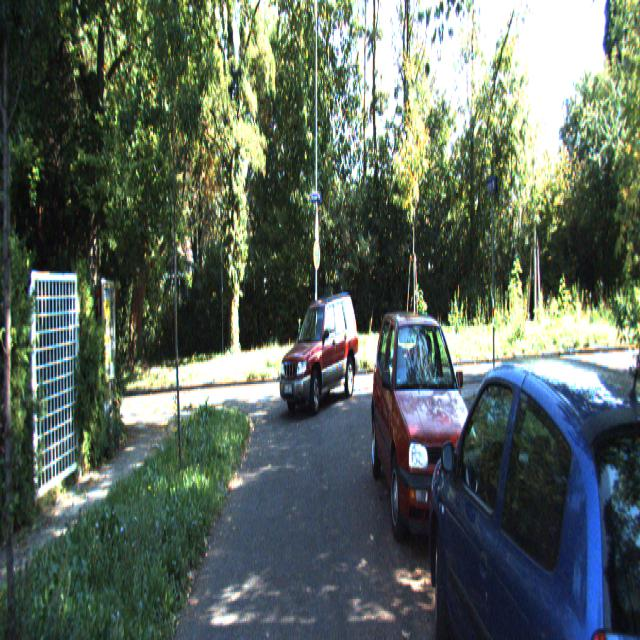Car: (420, 333, 640, 638), (370, 312, 489, 562), (278, 292, 360, 415)
